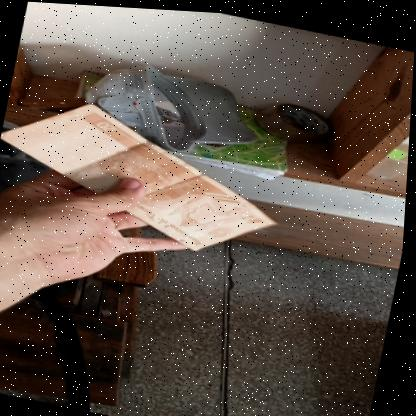twenty-back-vef: (0, 84, 296, 264)
